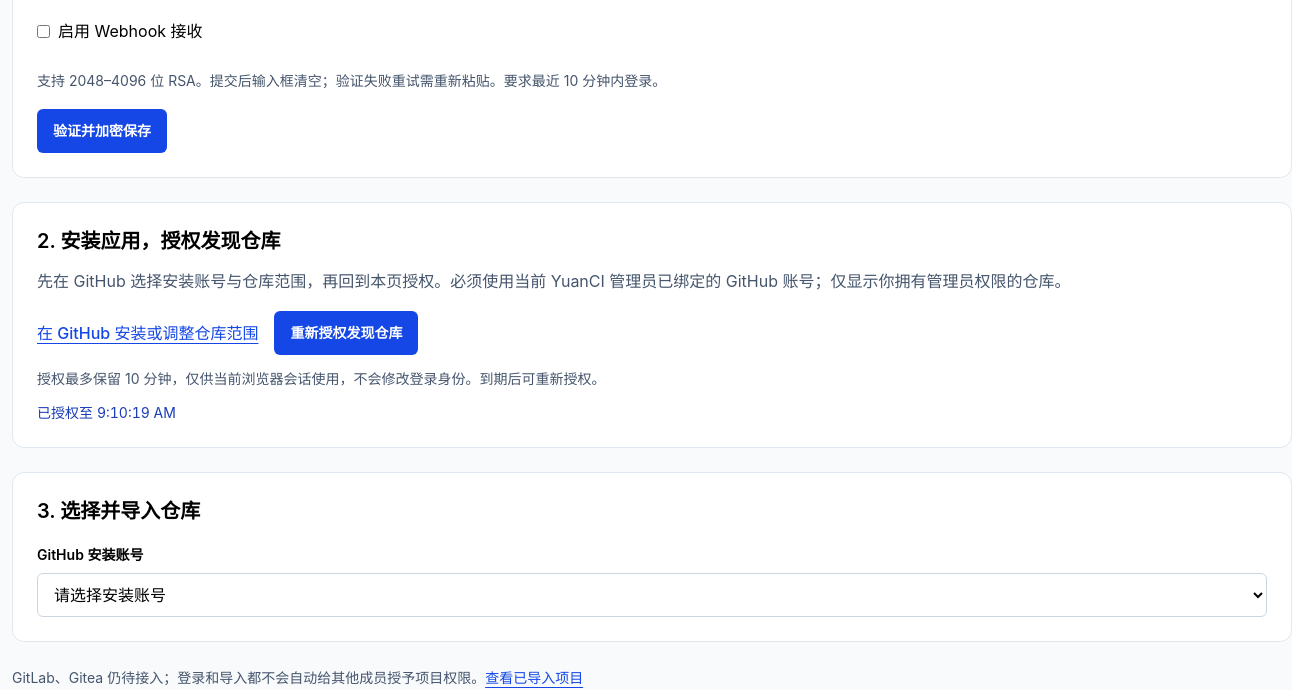
Scenario: page navigation resets selection and repository API failures hide stale metadata
(page scrolled)
Select "team · 安装 34" in the dropdown labelled "GitHub 安装账号" at coordinates (652, 595), box [37, 573, 1267, 617]
(page scrolled)
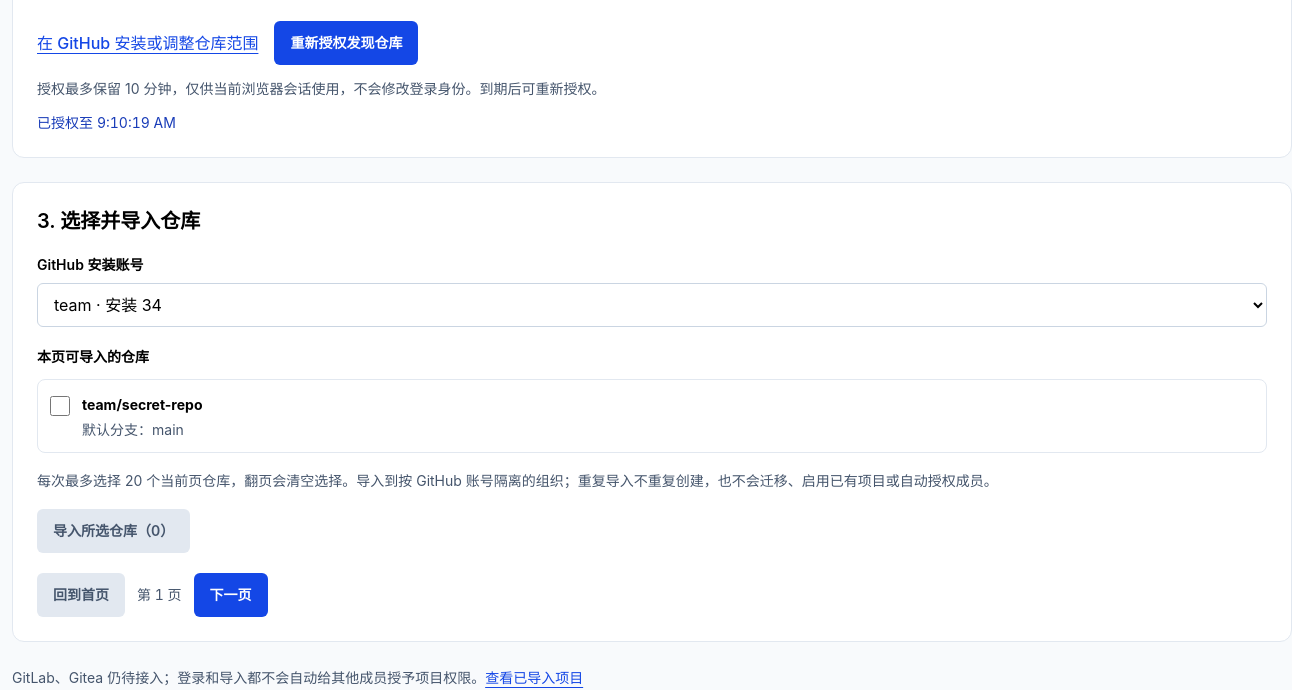
Click the checkbox labelled "team/secret-repo 默认分支：main".
click(60, 406)  # box [50, 396, 70, 416]
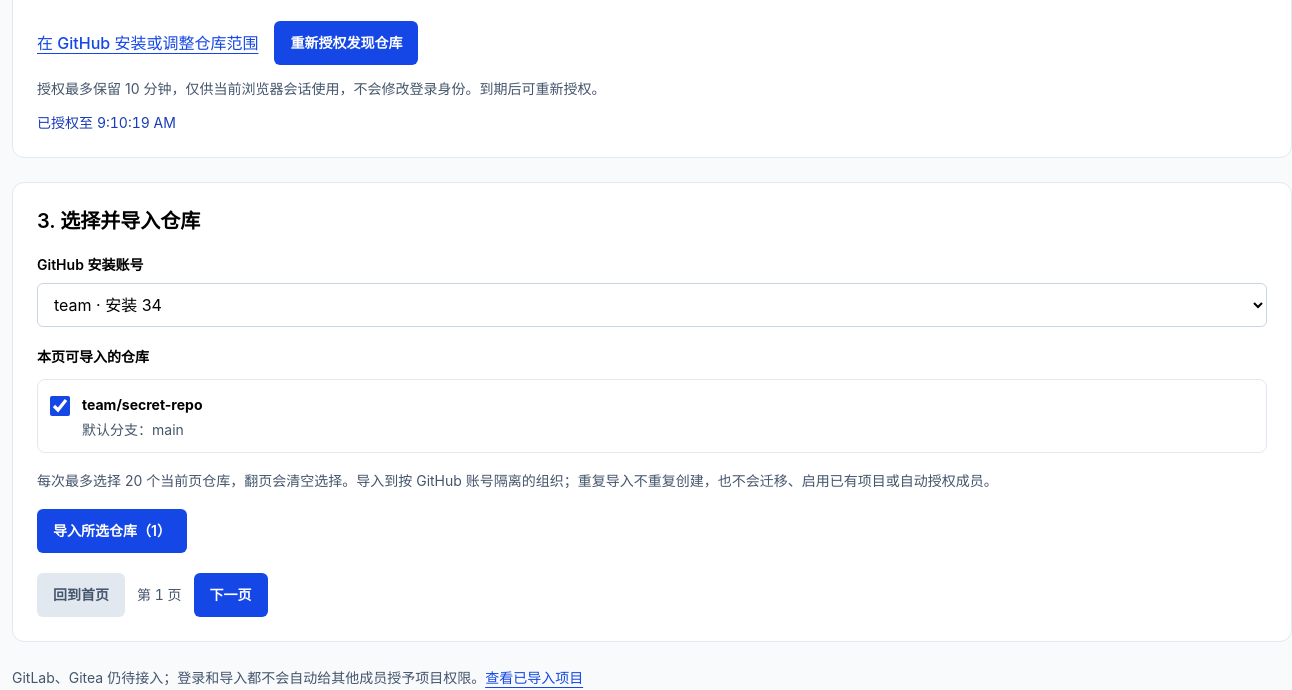
Click the button "下一页".
click(231, 595)  # box [194, 573, 268, 617]
(page scrolled)
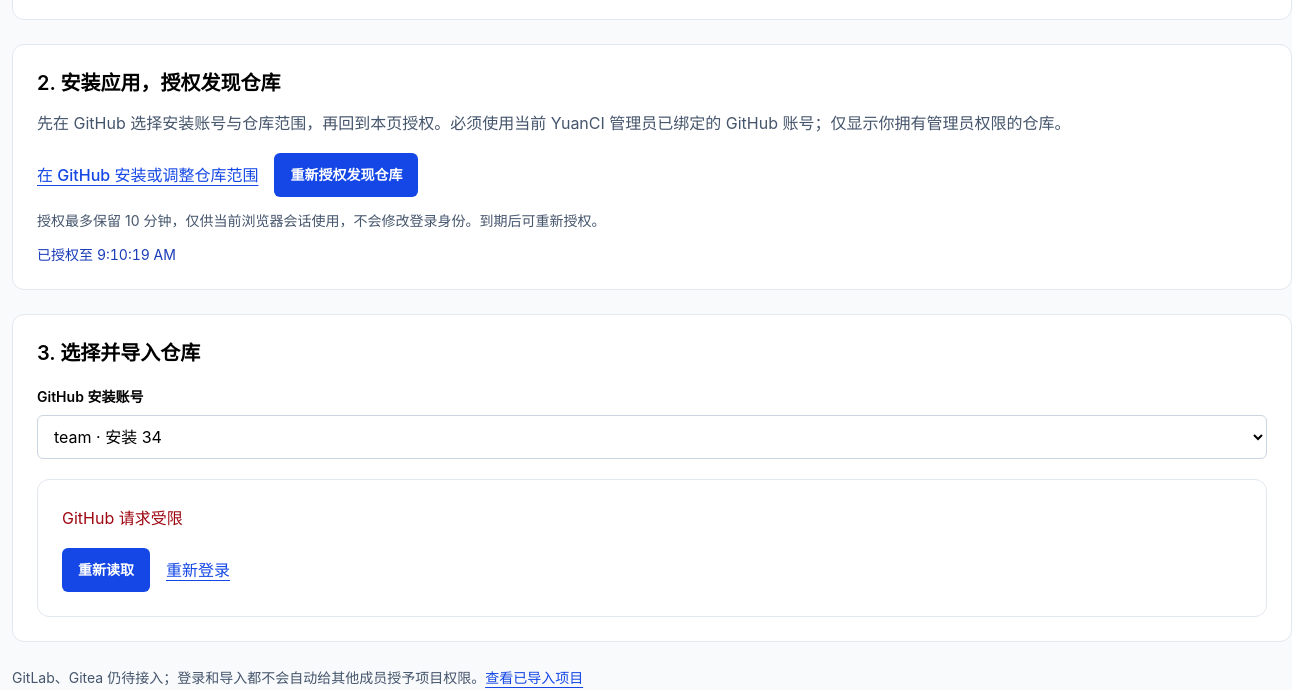
Now the message "GitHub 请求受限" is shown, box [62, 508, 183, 528]
Now the text "team/secret-repo" is gone
